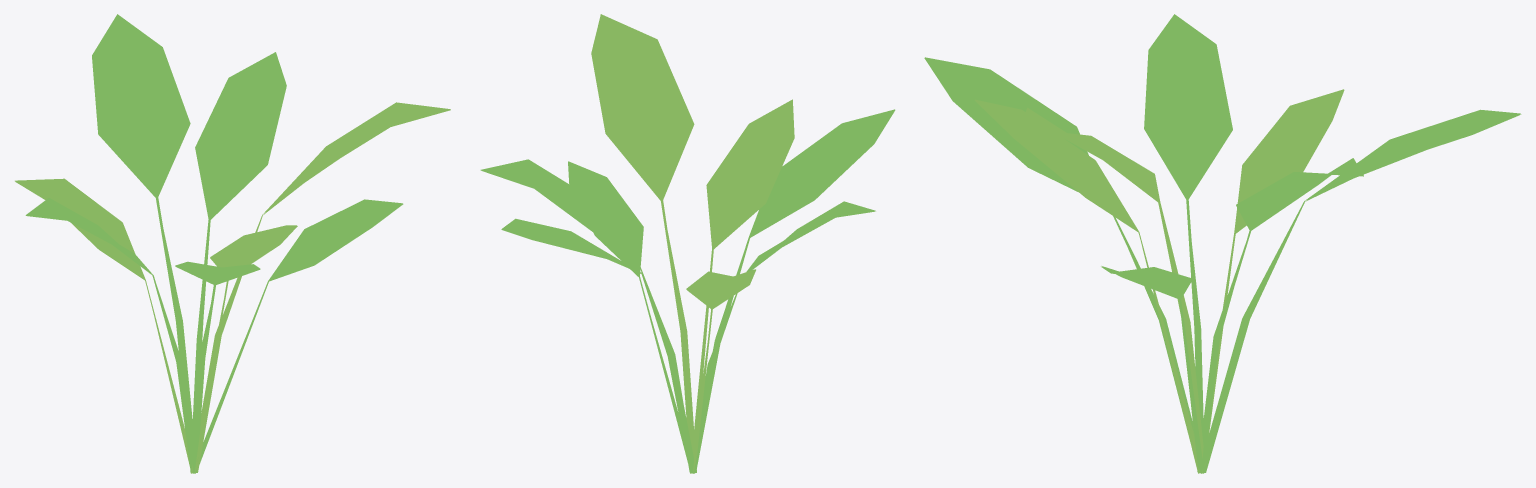
The model's file is Plant_j_TwoS_05.fbx.
The picture shows the model from 3 angles, left to right: view 1: azimuth 30°, elevation 25°; view 2: azimuth 150°, elevation 25°; view 3: azimuth 270°, elevation 25°; orthographic projection. The views are drawn at different scales.
Visible parts, largest first — view 1: Plant_j_TwoS_05; view 2: Plant_j_TwoS_05; view 3: Plant_j_TwoS_05.
Boxes of the visible parts, box(x1,y1,x2,y2) form: Plant_j_TwoS_05: box(15, 14, 450, 473); Plant_j_TwoS_05: box(480, 14, 895, 473); Plant_j_TwoS_05: box(924, 14, 1521, 473).
Size of the model in its own units: 0.5229 by 0.5298 by 0.6568.
